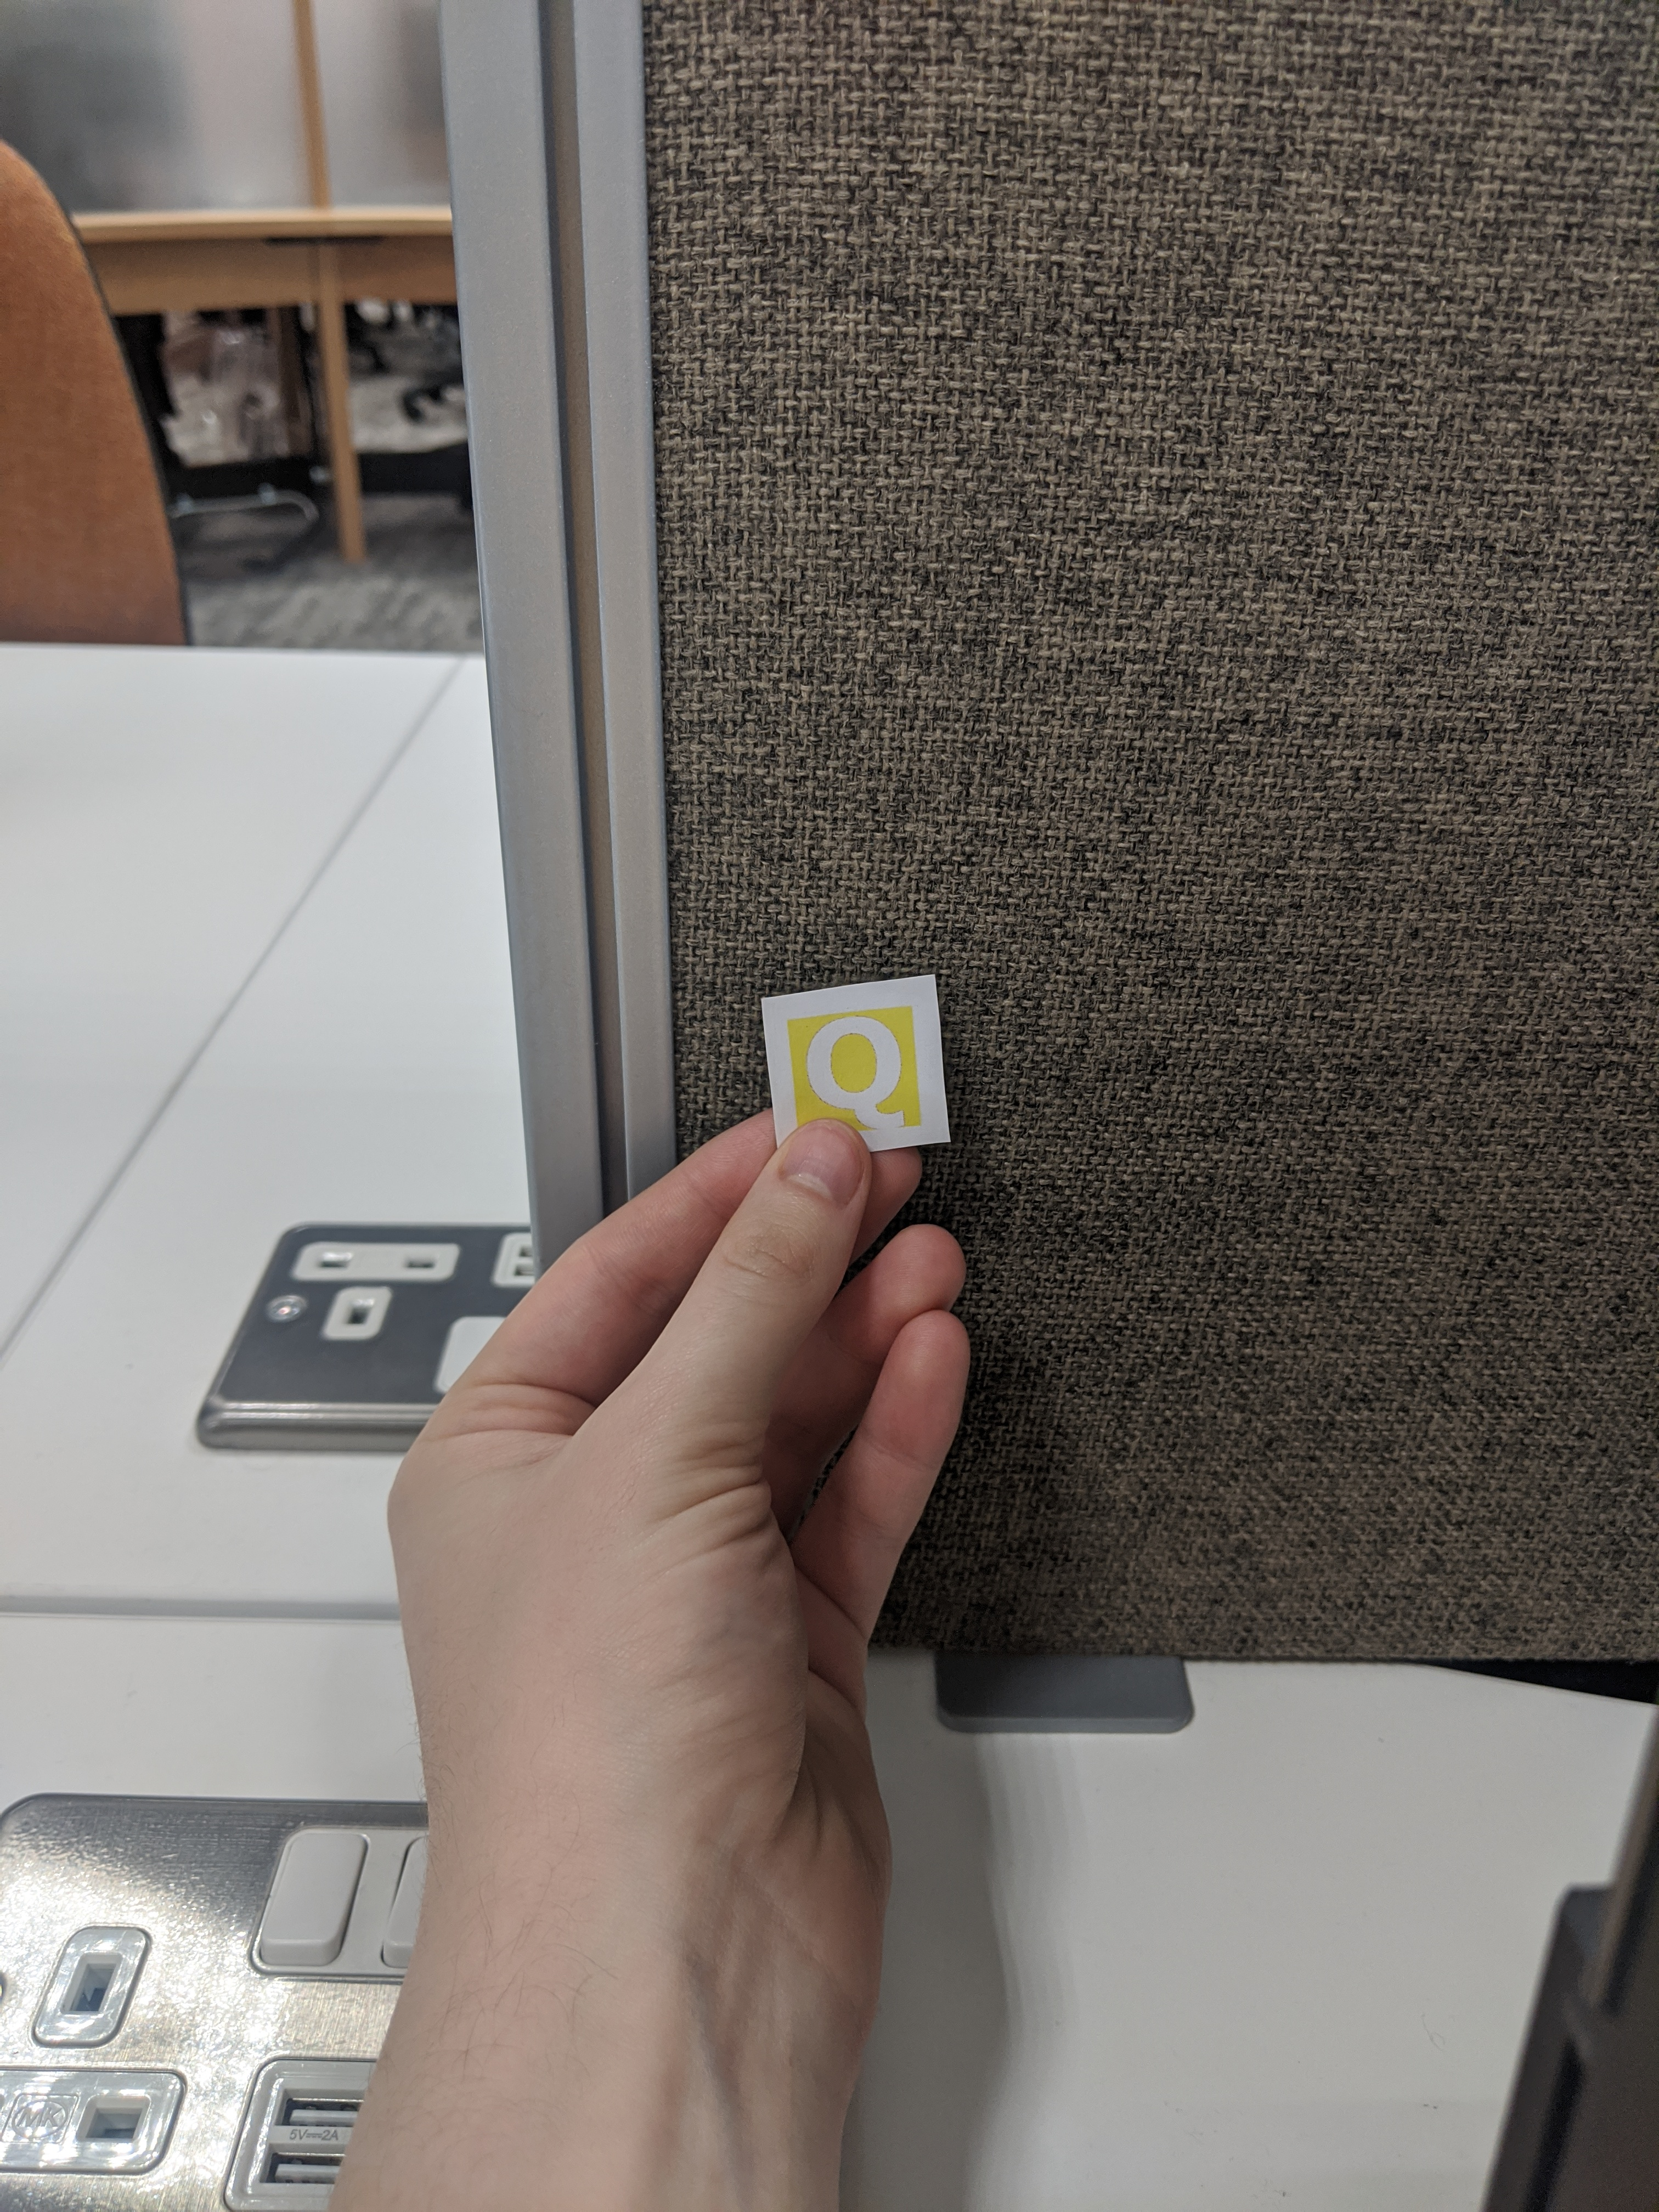yellow marker: (758, 965, 992, 1177)
